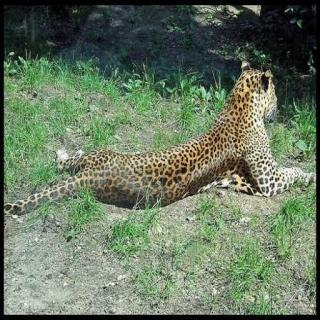Leopard: (12, 56, 320, 252)
